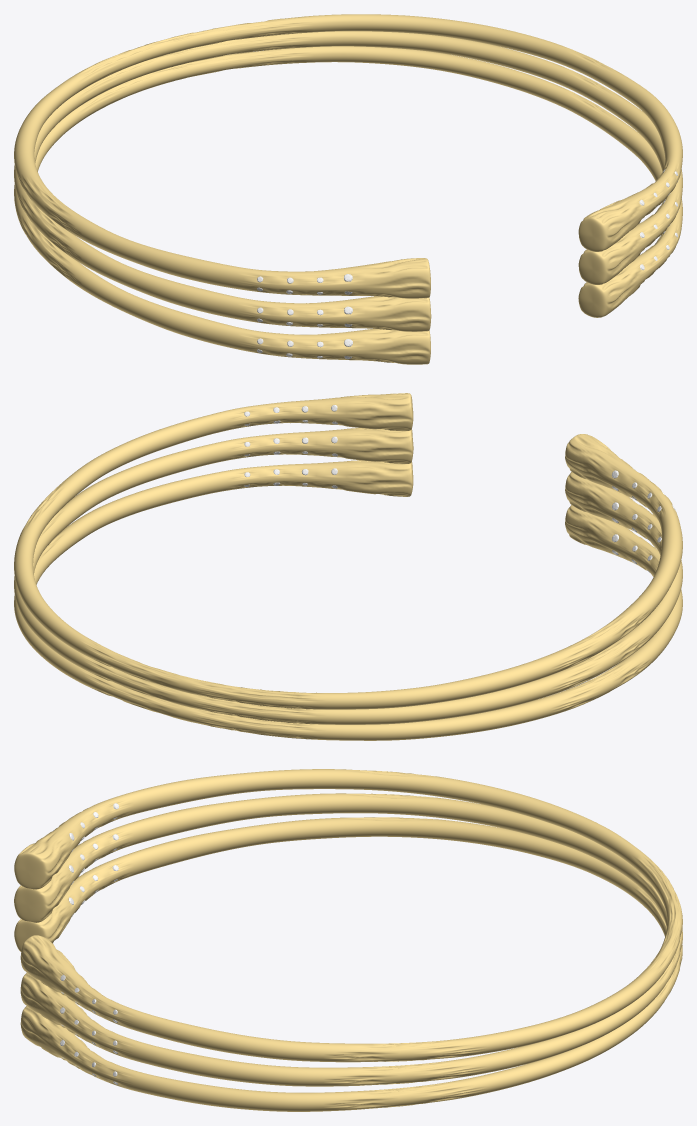
Rendered from Bracelet-with-diamond-3-transformed.glb.
The picture shows the model from 3 angles, top to bottom: view 1: azimuth 30°, elevation 25°; view 2: azimuth 150°, elevation 25°; view 3: azimuth 270°, elevation 25°; orthographic projection.
Parts seen in each view (by area): view 1: Circle.003, Circle.016; view 2: Circle.003, Circle.016; view 3: Circle.003, Circle.016.
Boxes of the visible parts, x1,y1,x2,y2 form: Circle.003: [14, 14, 682, 364]; Circle.016: [257, 169, 678, 359]; Circle.003: [14, 393, 682, 740]; Circle.016: [244, 405, 675, 572]; Circle.003: [14, 769, 682, 1111]; Circle.016: [53, 803, 118, 1084].
Bounding box in the file's own units: 3.01 × 0.5169 × 3.02.
Materials: 2 (1 with a texture image).
